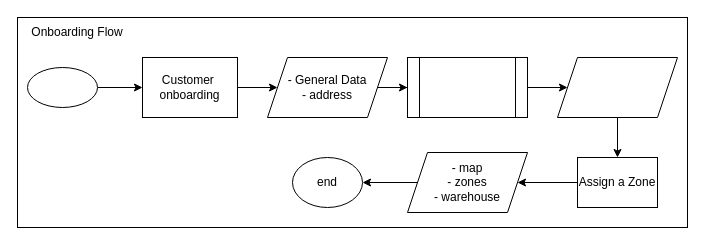
The diagram is 705 pixels wide and 245 high, and some of its shapes have lost their labels. Each missing label, with the box of its shape:
- Latitude - Longitude: (556, 56, 678, 118)
geocoding: (406, 56, 528, 118)
start: (26, 66, 98, 108)
